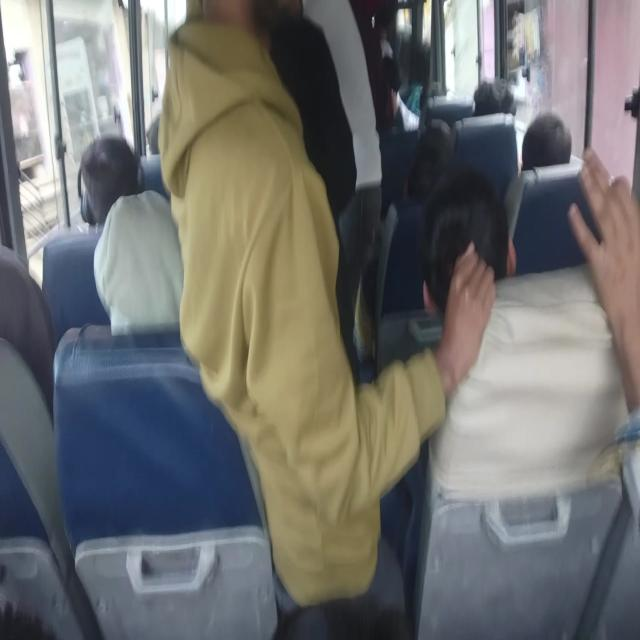person: (127, 0, 345, 412), (252, 0, 358, 197), (102, 193, 207, 350), (322, 0, 408, 177), (421, 187, 541, 271), (0, 281, 68, 417), (64, 127, 141, 201), (534, 109, 590, 162), (474, 79, 526, 133), (414, 115, 454, 179), (142, 90, 174, 137)
